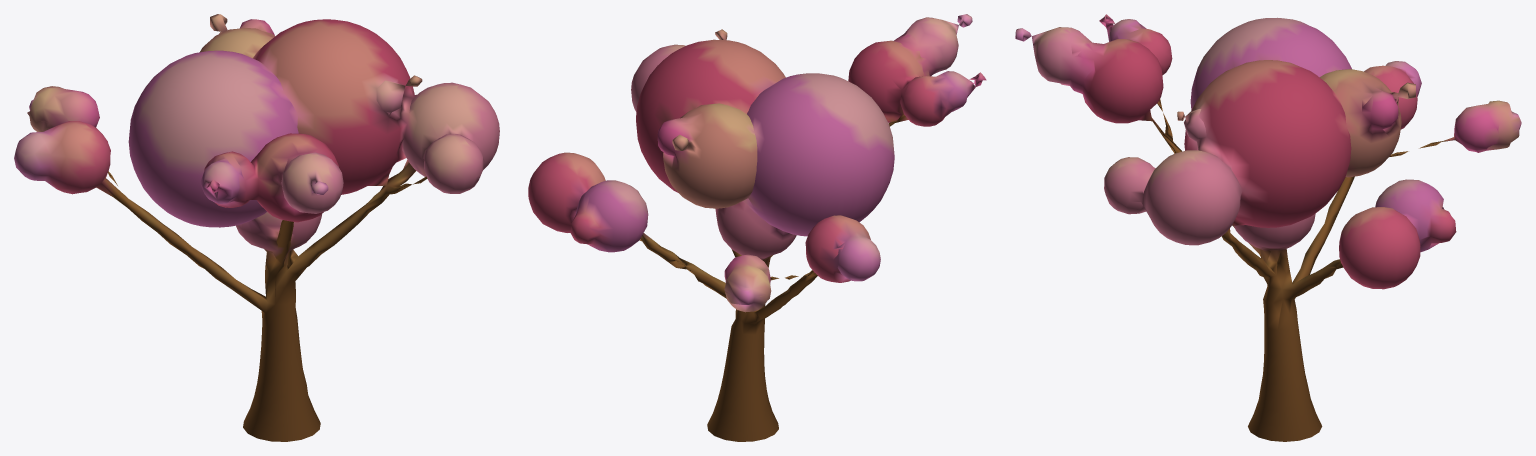
File: canopy-tree-217-lod1.obj
The picture shows the model from 3 angles, left to right: view 1: azimuth 30°, elevation 25°; view 2: azimuth 150°, elevation 25°; view 3: azimuth 270°, elevation 25°; orthographic projection. The views are drawn at different scales.
Parts seen in each view (by area): view 1: simplified; view 2: simplified; view 3: simplified.
Boxes of the visible parts, box(x1,y1,x2,y2) form: simplified: box(14, 14, 499, 441); simplified: box(528, 14, 986, 441); simplified: box(1015, 14, 1521, 441).
Bounding box in the file's own units: 433 × 429 × 524.
